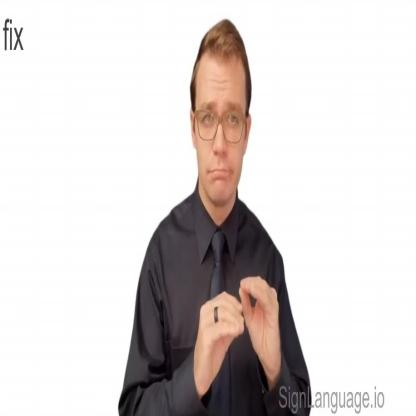Fix: (191, 266, 288, 403)
